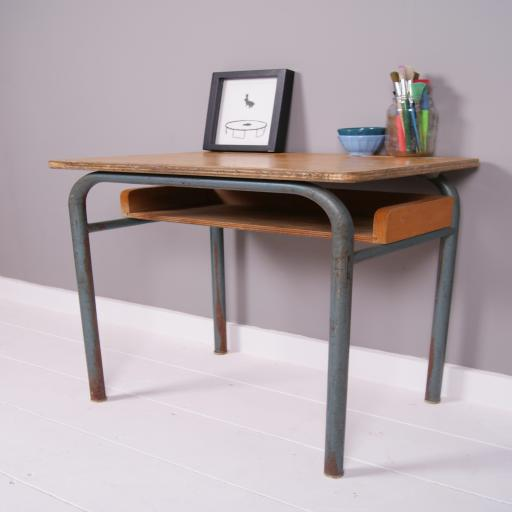desk: (48, 151, 479, 479)
wall: (0, 0, 512, 378)
